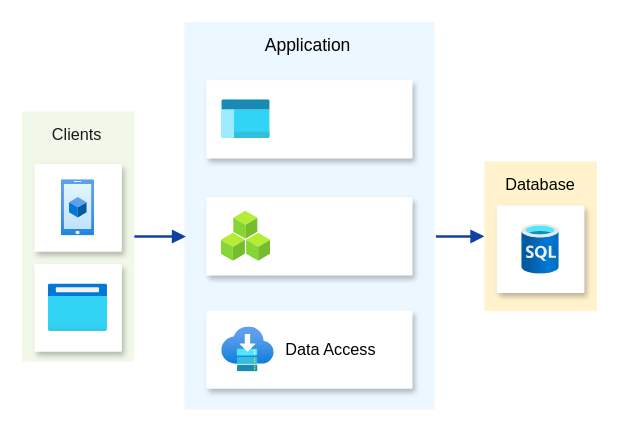
Some shapes in this 618 by 430 pixel diagram are drawn without their labels. Each missing label, with the centre of its shape:
"Domain" belongs at [245,236].
"UI" belongs at [245,118].
